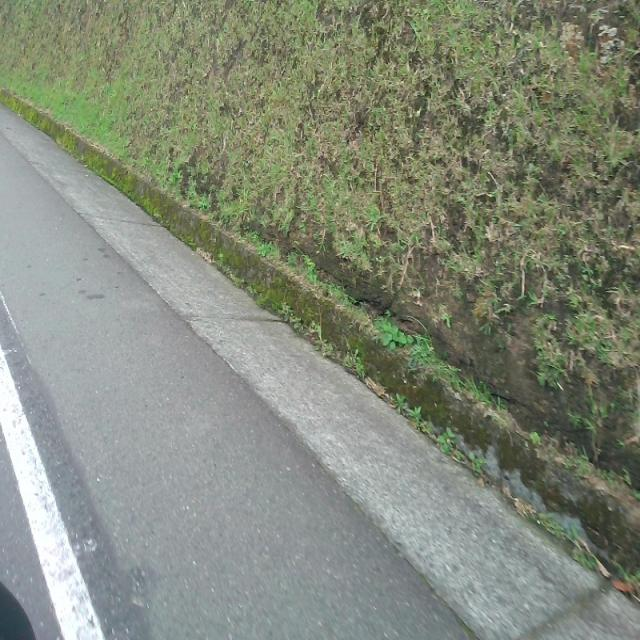DITCH: (1, 81, 639, 638), (1, 97, 638, 638)
